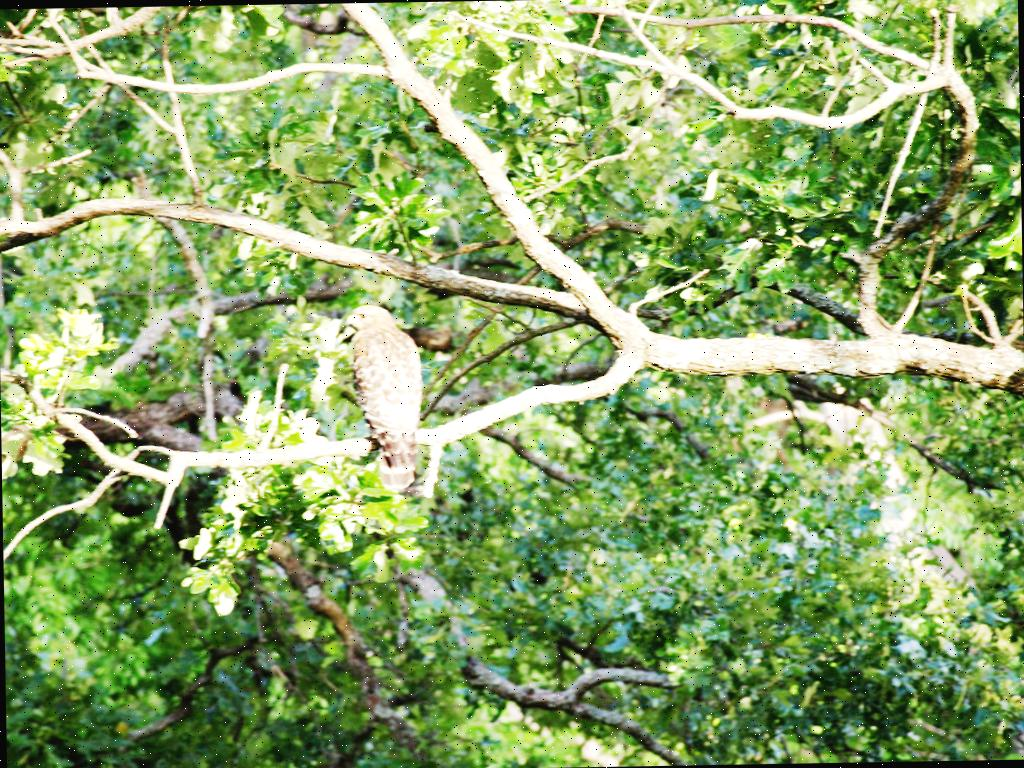Owl: (345, 301, 420, 488)
